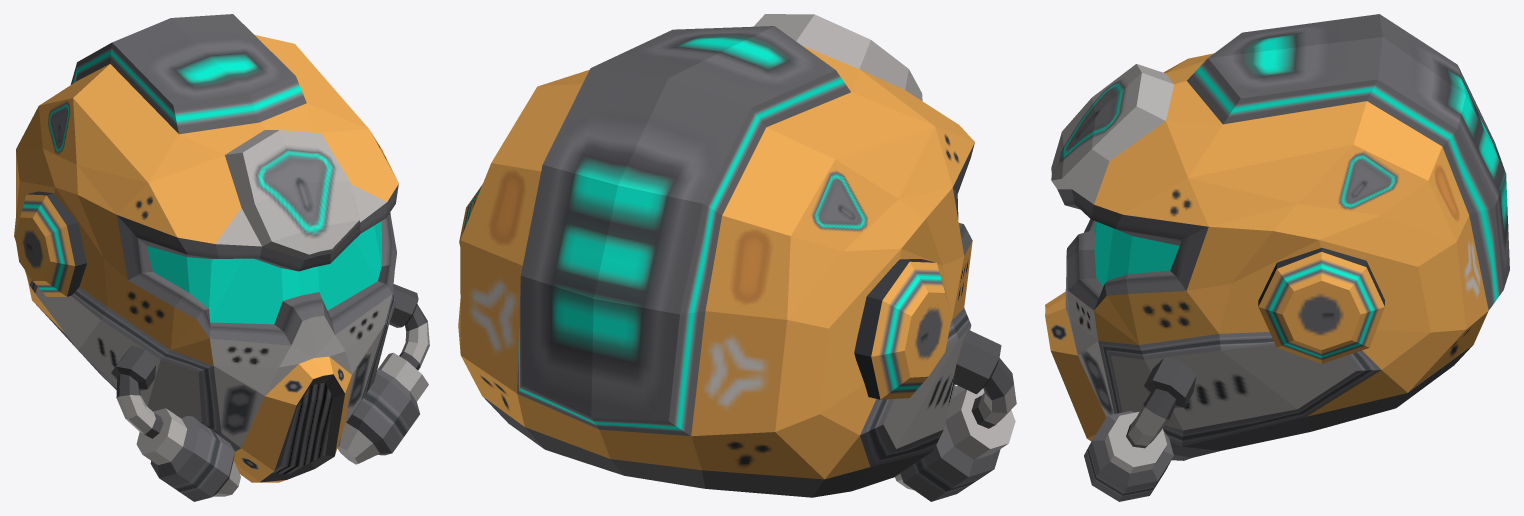
The model's file is SM_Chr_Attach_Helmet_Soldier_01.fbx.
3 views of the same model, side by side, from view 1: azimuth 30°, elevation 25°; view 2: azimuth 150°, elevation 25°; view 3: azimuth 270°, elevation 25° (orthographic). The views are drawn at different scales.
Parts seen in each view (by area): view 1: SM_Chr_Attach_Helmet_Soldier_01; view 2: SM_Chr_Attach_Helmet_Soldier_01; view 3: SM_Chr_Attach_Helmet_Soldier_01.
Part boxes in pixels (x1,y1,x2,y2): SM_Chr_Attach_Helmet_Soldier_01: (14, 14, 429, 501); SM_Chr_Attach_Helmet_Soldier_01: (458, 14, 1016, 501); SM_Chr_Attach_Helmet_Soldier_01: (1045, 14, 1509, 501).
Size of the model in its own units: 31.76 by 35.27 by 34.84.
